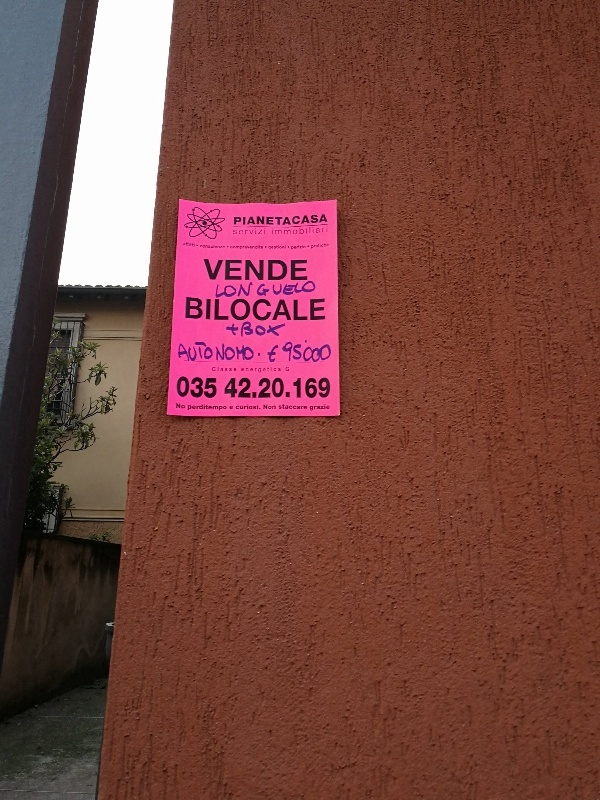text: (193, 297, 208, 322), (209, 297, 224, 322), (225, 297, 240, 322), (241, 297, 256, 322), (257, 297, 272, 322), (273, 297, 288, 322), (289, 297, 304, 322), (305, 297, 320, 322), (209, 259, 224, 281), (225, 259, 240, 281), (241, 259, 256, 281), (257, 259, 272, 281), (273, 259, 288, 281), (289, 259, 304, 281), (289, 341, 304, 363), (305, 341, 320, 363), (177, 377, 192, 399), (193, 377, 208, 399), (241, 377, 256, 399), (257, 377, 272, 399), (273, 377, 288, 399), (289, 377, 304, 399), (305, 377, 320, 399), (225, 278, 240, 299), (241, 278, 256, 299), (257, 278, 272, 299), (273, 278, 288, 299), (289, 278, 304, 299), (193, 342, 208, 362), (225, 343, 240, 361), (241, 343, 256, 361), (179, 342, 192, 362), (321, 341, 332, 363), (229, 377, 240, 399), (257, 321, 272, 337), (305, 278, 316, 299), (242, 321, 256, 337), (273, 321, 286, 337), (321, 377, 330, 399), (241, 214, 256, 226), (257, 214, 272, 226), (273, 214, 288, 226), (289, 214, 304, 226), (305, 214, 320, 226), (209, 377, 217, 399), (227, 324, 240, 337), (217, 278, 224, 299), (216, 343, 224, 361), (273, 226, 288, 235), (289, 226, 304, 235), (305, 226, 320, 235), (273, 342, 279, 364), (187, 297, 192, 322), (321, 297, 326, 322), (283, 341, 288, 363), (321, 214, 330, 226), (241, 228, 256, 235), (177, 403, 192, 410), (193, 404, 208, 411), (209, 404, 224, 411), (241, 245, 256, 251), (273, 245, 288, 251), (289, 404, 304, 410), (204, 259, 208, 281), (209, 342, 213, 362), (310, 404, 320, 412), (291, 244, 304, 250), (209, 244, 224, 249), (241, 367, 256, 372), (257, 367, 272, 372), (241, 405, 256, 410), (225, 367, 237, 373), (321, 404, 330, 412), (269, 342, 272, 364), (213, 367, 224, 373), (257, 228, 266, 235), (321, 226, 328, 235), (311, 242, 320, 249), (235, 214, 240, 226), (257, 245, 267, 251), (321, 242, 329, 249), (183, 242, 192, 248), (231, 245, 240, 251), (257, 343, 260, 361), (279, 404, 288, 410), (233, 228, 240, 235), (263, 405, 272, 410), (305, 259, 307, 281), (200, 244, 208, 249), (273, 367, 281, 372), (230, 406, 240, 410), (193, 242, 198, 248), (188, 404, 192, 411), (305, 244, 309, 250), (225, 244, 229, 249), (236, 405, 240, 410), (257, 405, 261, 410), (269, 245, 272, 251), (273, 405, 276, 410), (225, 404, 227, 411), (305, 404, 307, 410), (286, 367, 288, 372), (289, 245, 290, 251)
